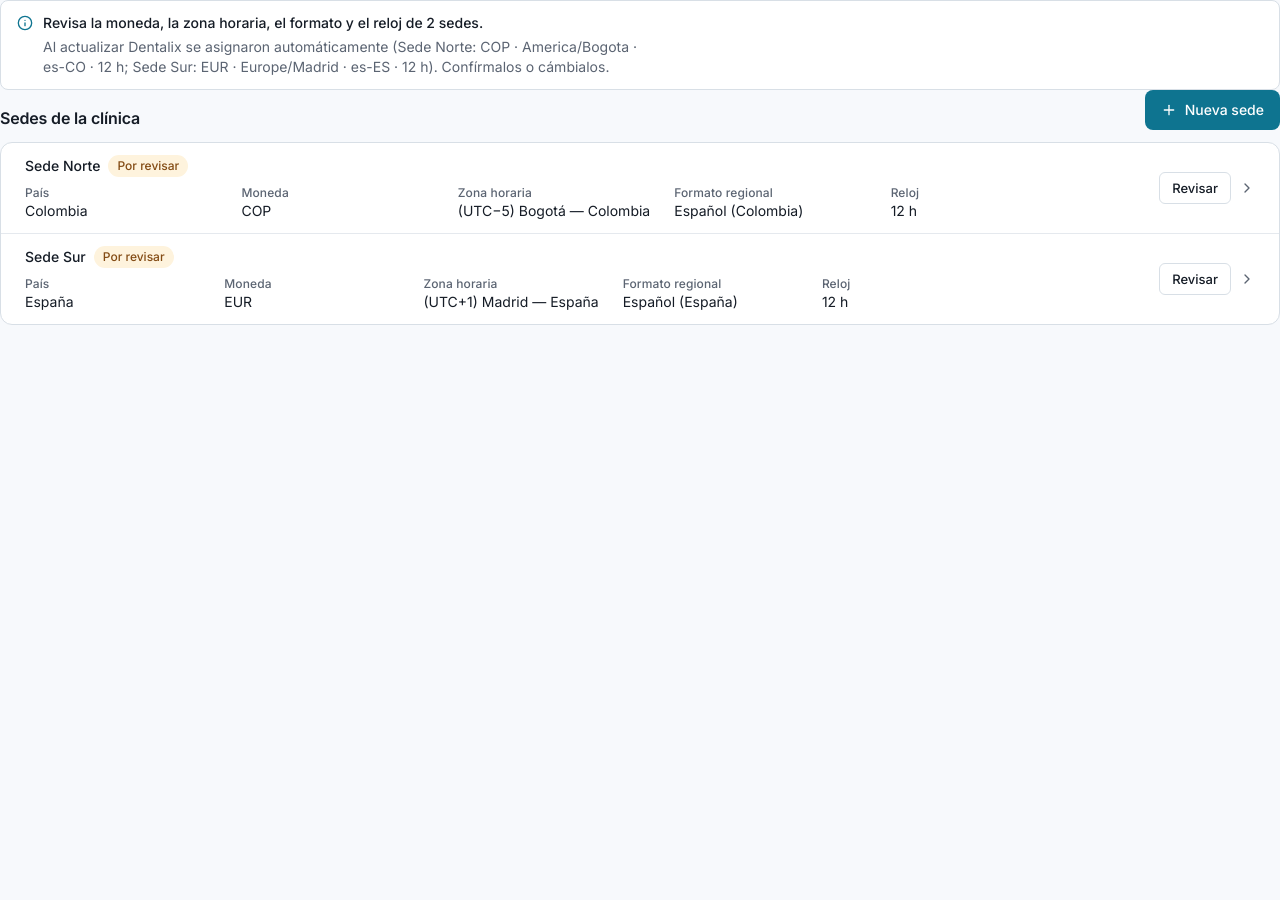
Scenario: RegionalReviewNotice (aviso D5, spec §7) › with 2 pending, saving one leaves the notice at 1 naming the other
Check: the element named "Sedes por revisar" shows "el formato y el reloj de 2 sedes.", box x1=43 y1=14 x2=483 y2=31
Click the button with aria-label "Revisar Sede Norte" at (1195, 188), box x1=1159 y1=172 x2=1231 y2=204
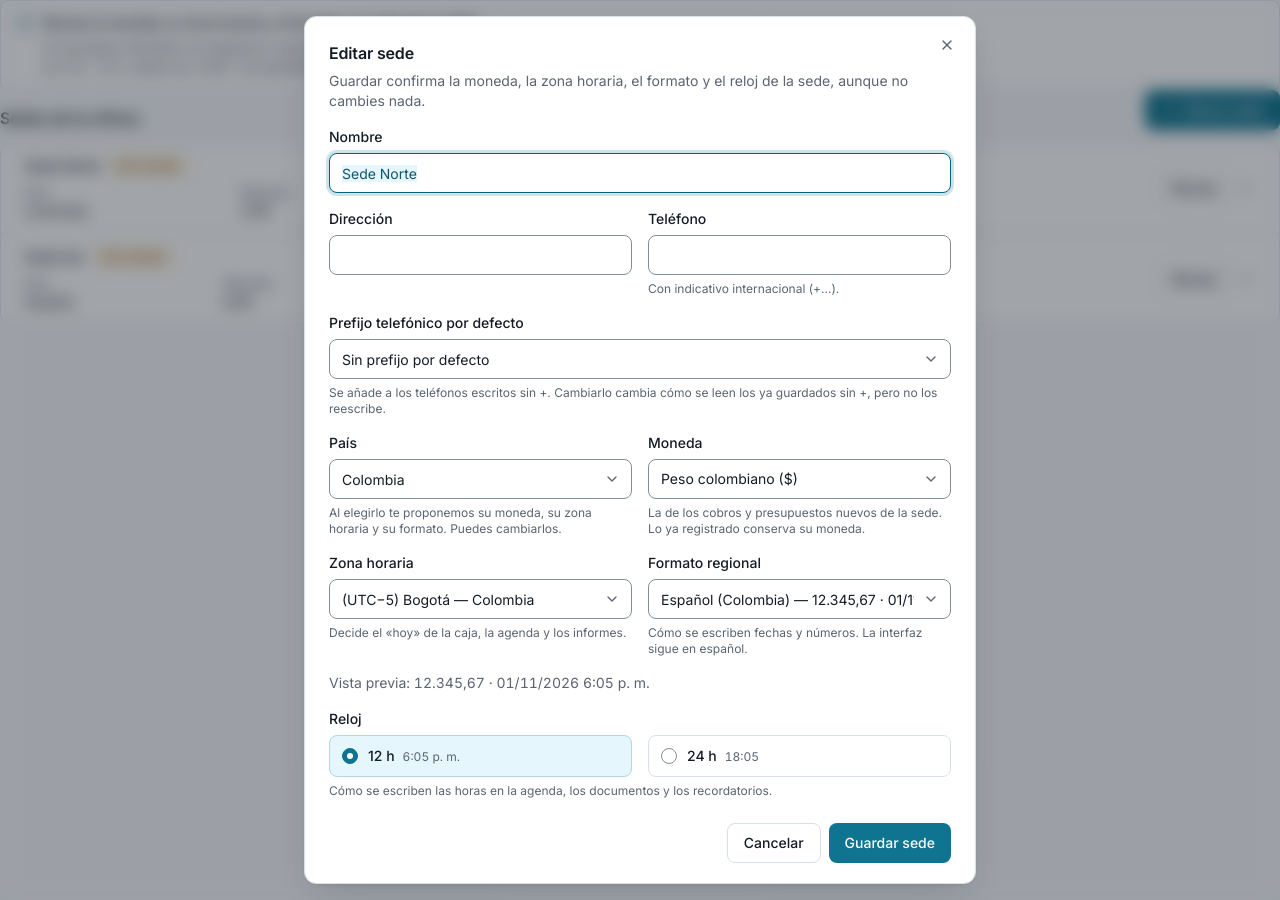
Click the button "Guardar sede" at (890, 843), box x1=829 y1=823 x2=951 y2=863
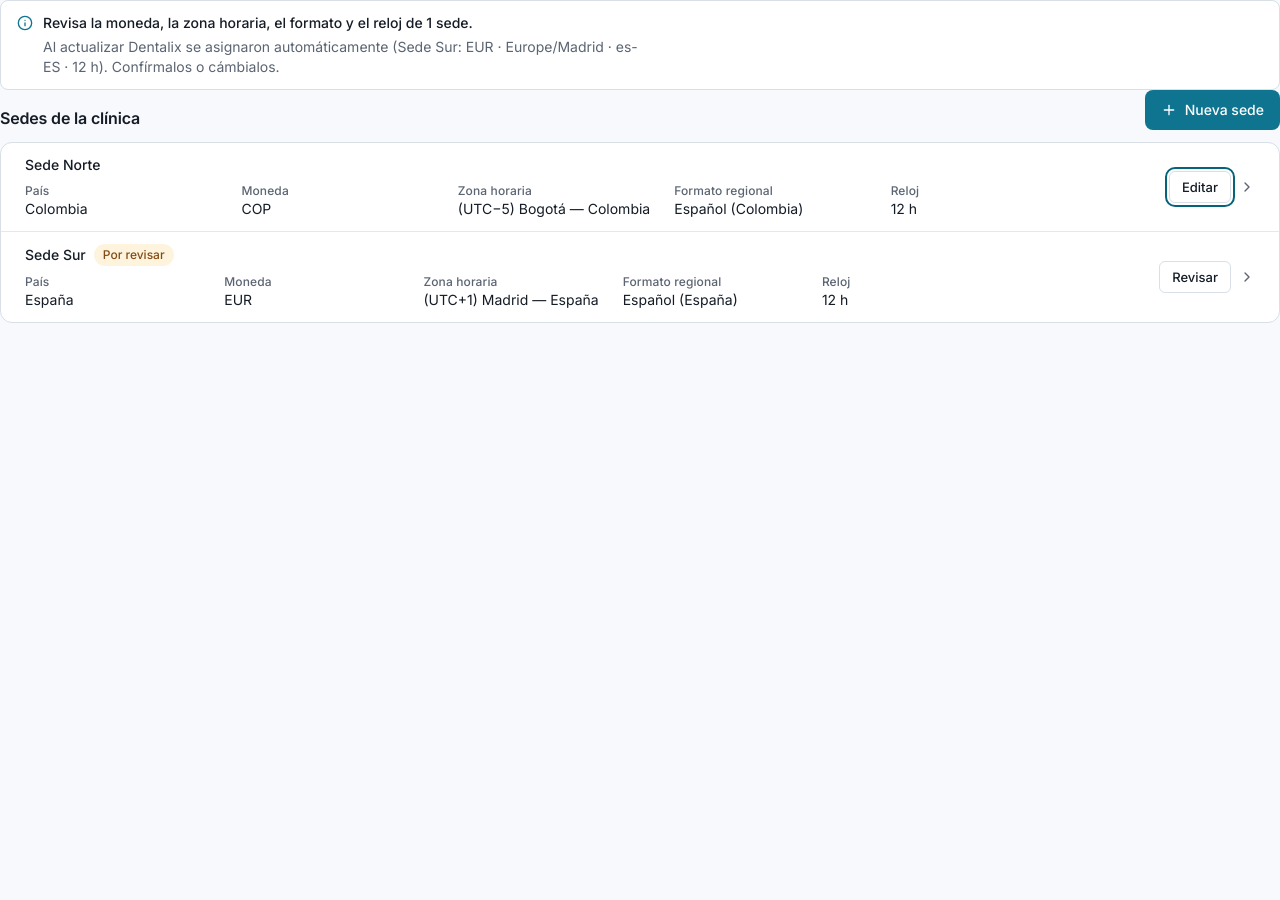
Check: the element named "Sedes por revisar" shows "(Sede Sur: EUR · Europe/Madrid · es-ES · 12 h)", box x1=43 y1=38 x2=638 y2=75
Check: the element named "Sedes por revisar" shows "el formato y el reloj de 1 sede.", box x1=43 y1=14 x2=473 y2=31
